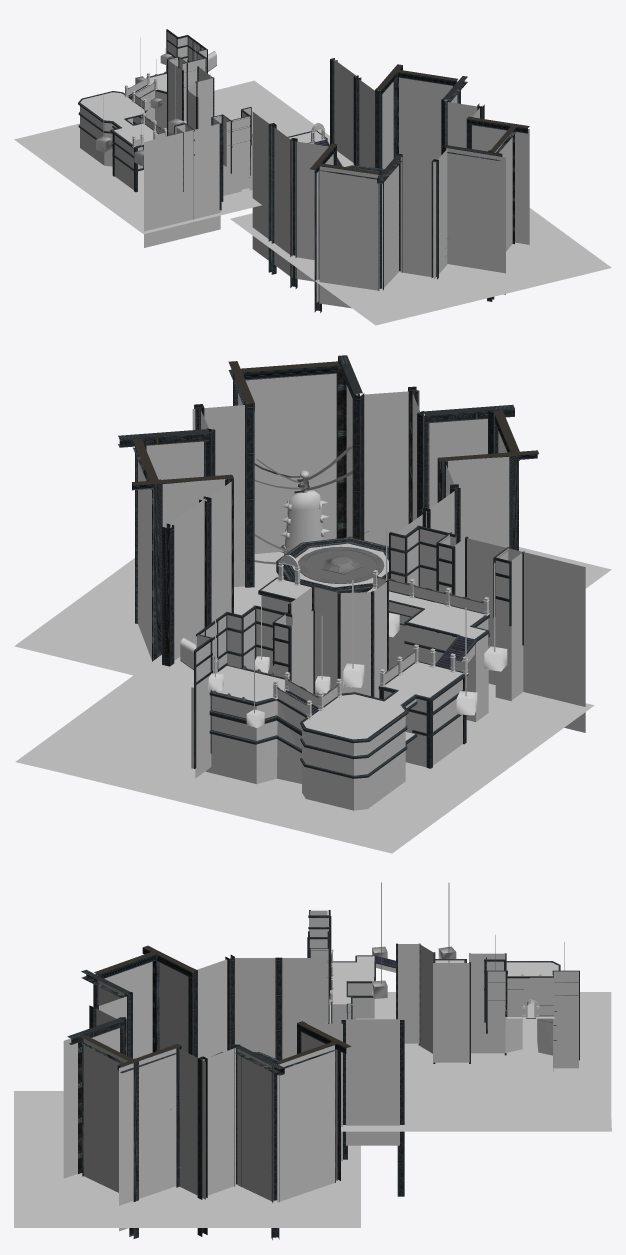
3 views of the same model, one above another, from view 1: azimuth 30°, elevation 25°; view 2: azimuth 150°, elevation 25°; view 3: azimuth 270°, elevation 25° (orthographic). The views are drawn at different scales.
Visible parts, largest first — view 1: Rock_01, Rock_02, DIMIAN, Langan, Alpha_01, WTI; view 2: Rock_01, DIMIAN, Langan, Rock_02, WTI, Alpha_01; view 3: Rock_01, DIMIAN, Rock_02, Langan, WTI, Alpha_01.
Boxes of the visible parts, left/top/right/bottom form: Rock_01: left=80, top=37, right=482, bottom=302; Rock_02: left=133, top=32, right=529, bottom=308; DIMIAN: left=14, top=73, right=611, bottom=325; Langan: left=78, top=29, right=529, bottom=312; Alpha_01: left=96, top=37, right=449, bottom=256; WTI: left=124, top=71, right=325, bottom=158; Rock_01: left=146, top=390, right=585, bottom=810; DIMIAN: left=14, top=543, right=611, bottom=853; Langan: left=118, top=355, right=538, bottom=778; Rock_02: left=138, top=355, right=511, bottom=778; WTI: left=212, top=470, right=489, bottom=719; Alpha_01: left=208, top=446, right=507, bottom=727; Rock_01: left=91, top=910, right=554, bottom=1201; DIMIAN: left=14, top=956, right=611, bottom=1227; Rock_02: left=63, top=918, right=578, bottom=1231; Langan: left=67, top=910, right=579, bottom=1239; WTI: left=326, top=949, right=542, bottom=1019; Alpha_01: left=170, top=882, right=564, bottom=1167.
Bounding box in the file's own units: 4145 × 1973 × 5202.
